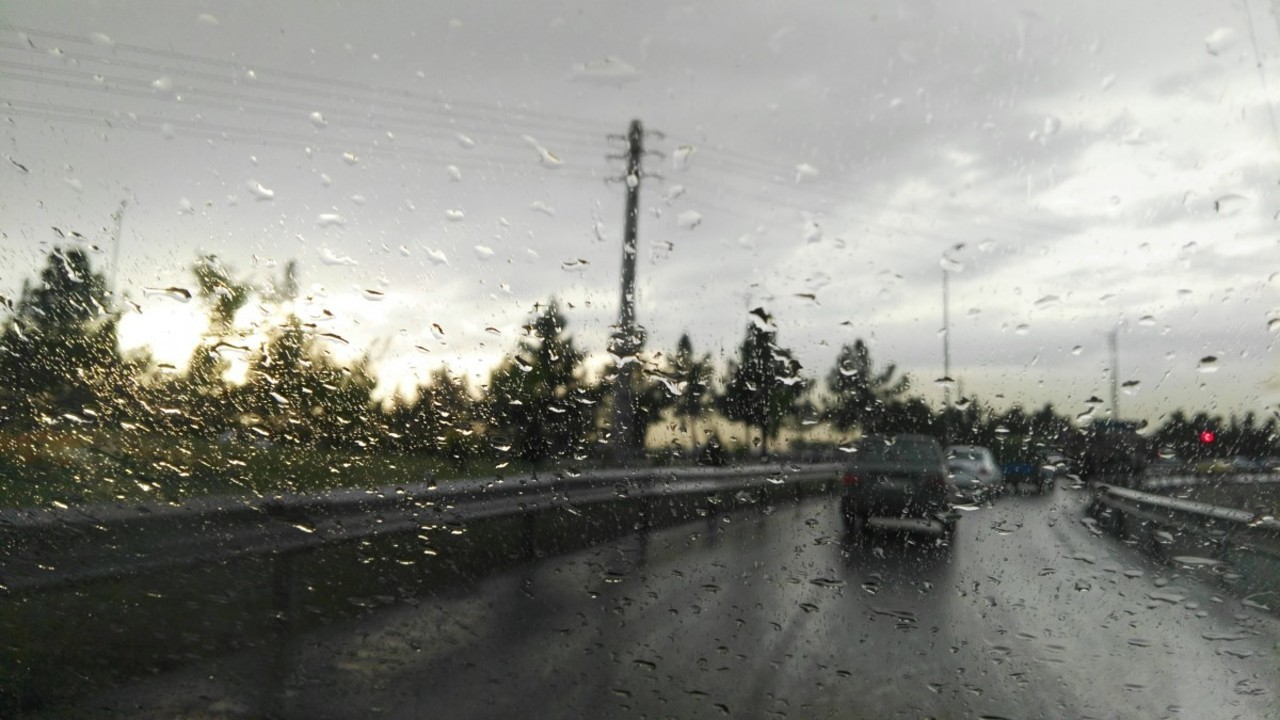car: (844, 426, 955, 548), (999, 435, 1068, 493), (946, 447, 1001, 502)
